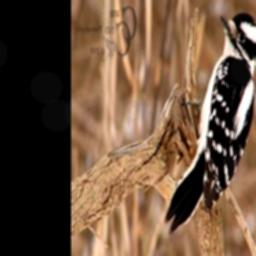Woodpecker: (163, 11, 256, 240)
